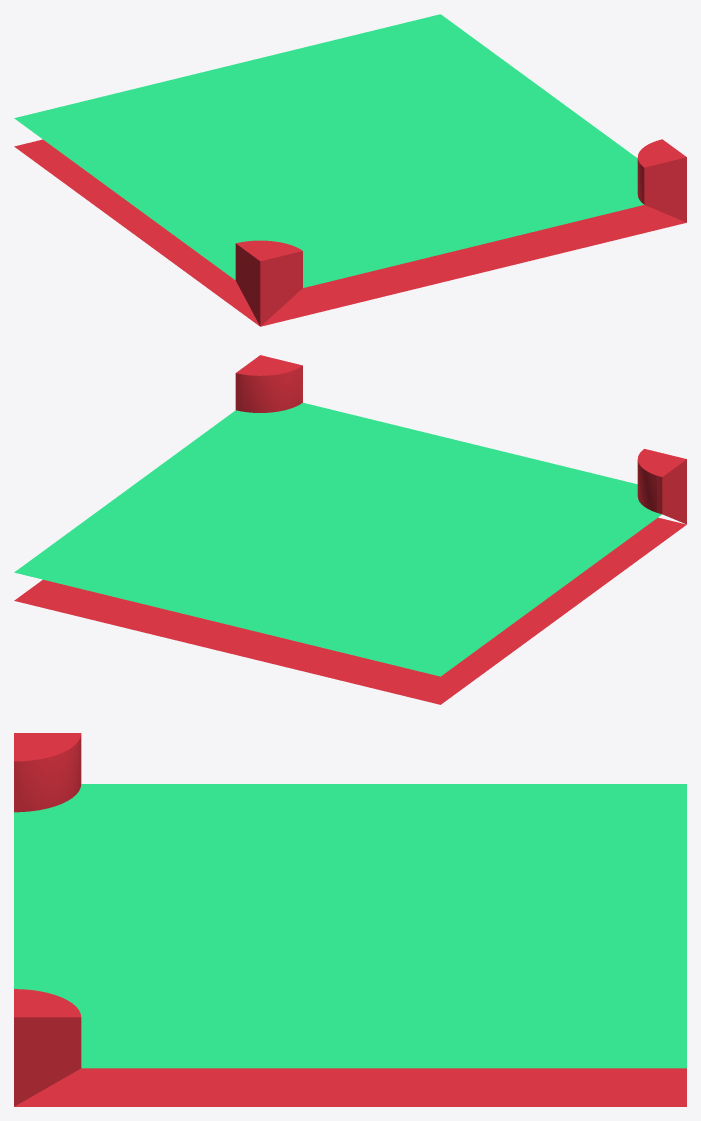
The model's file is wallsToOpen.fbx.
The picture shows the model from 3 angles, top to bottom: view 1: azimuth 30°, elevation 25°; view 2: azimuth 150°, elevation 25°; view 3: azimuth 270°, elevation 25°; orthographic projection. The views are drawn at different scales.
Visible parts, largest first — view 1: wallsToOpen; view 2: wallsToOpen; view 3: wallsToOpen.
Part boxes in pixels (<box>): wallsToOpen: <box>14,14,686,326</box>; wallsToOpen: <box>14,355,686,704</box>; wallsToOpen: <box>14,733,686,1106</box>.
Size of the model in its own units: 99.99 by 99.99 by 14.67.
